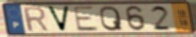2: (149, 5, 173, 32)
6: (125, 5, 147, 32)
E: (72, 5, 101, 32)
Q: (99, 5, 125, 33)
R: (22, 6, 51, 33)
V: (45, 5, 72, 33)
